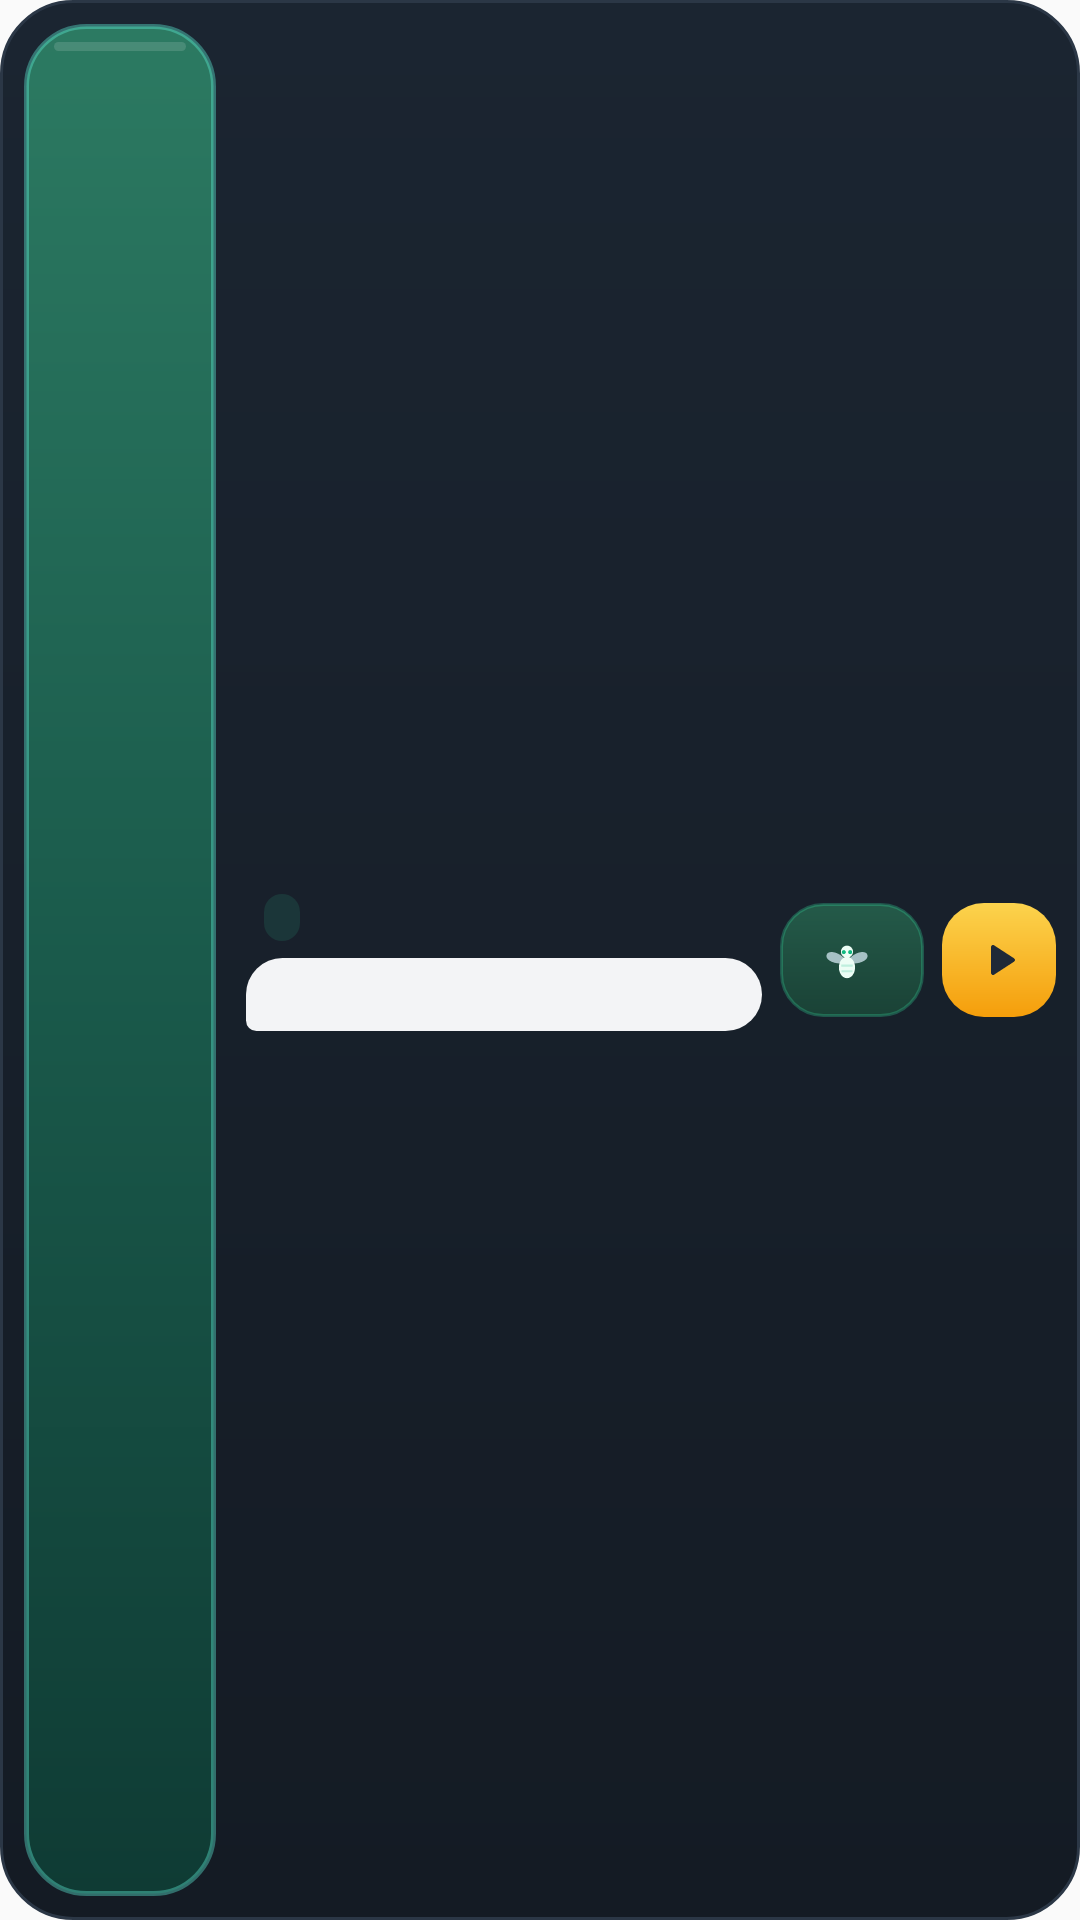

Where icons sit on this 1080w x 1920h app screen, as (x1, y1, x2, y2):
widget fly: (826, 945, 868, 979)
widget play: (975, 945, 1023, 984)
